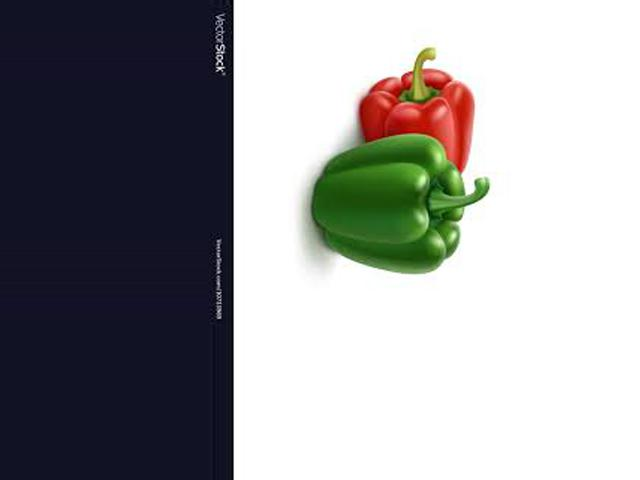bell_pepper: (361, 48, 488, 176)
